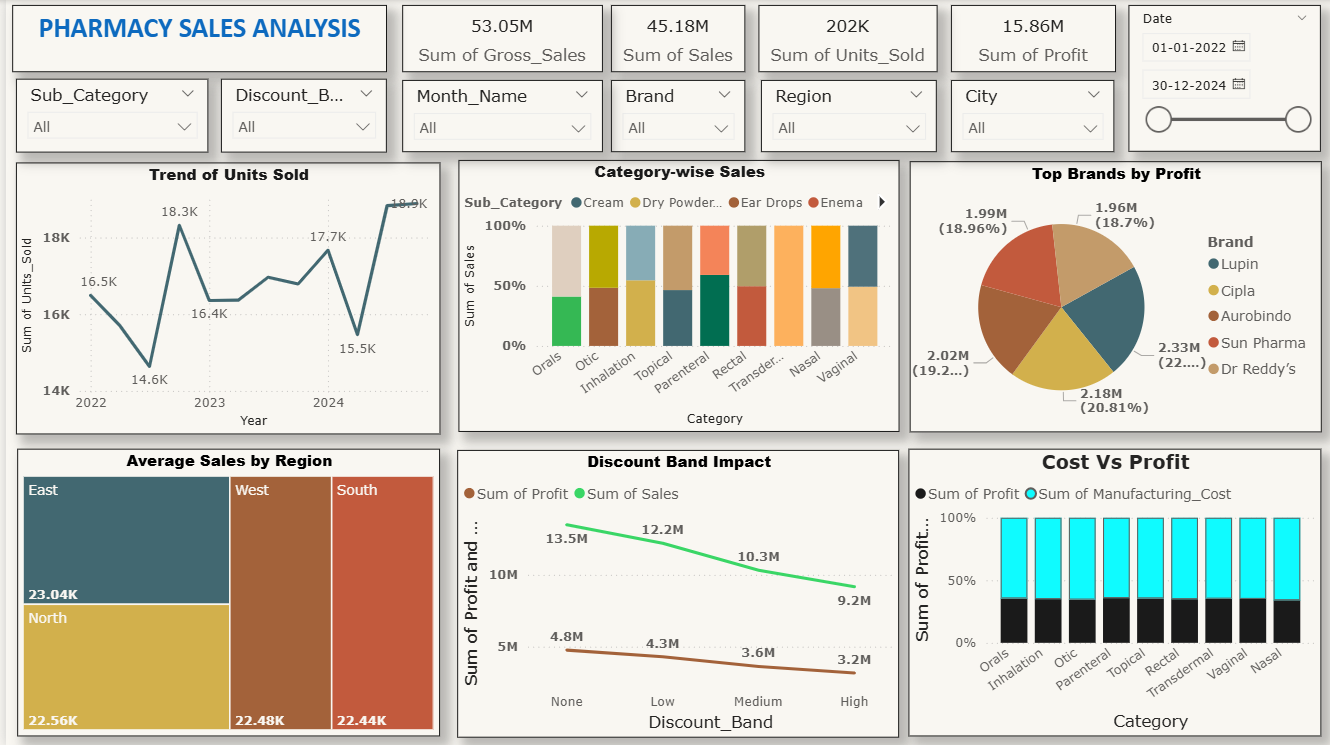

What the dashboard file says about the page in this screenshot:
{"tool":"powerbi","page":{"name":"Dashboard","canvas":[1280,720],"ordinal":0},"visuals":[{"type":"card","fields":{"Values":["Sum(Pharmacy_Sales.Sales)"]},"box":[584.5,4.9,129.6,64.8],"z":0},{"type":"card","fields":{"Values":["Sum(Pharmacy_Sales.Profit)"]},"box":[912.2,4.9,159,64.8],"z":1000},{"type":"card","fields":{"Values":["Sum(Pharmacy_Sales.Gross_Sales)"]},"box":[382.7,4.9,193.2,64.8],"z":2000},{"type":"card","fields":{"Values":["Sum(Pharmacy_Sales.Units_Sold)"]},"box":[726.4,4.9,172.4,64.8],"z":3000},{"type":"textbox","box":[6.1,4.9,362,64.8],"z":4000},{"type":"lineChart","title":"Trend of Units Sold","fields":{"Y":["Sum(Pharmacy_Sales.Units_Sold)"],"Category":["Pharmacy_Sales.Date.Variation.Date Hierarchy.Year","Pharmacy_Sales.Date.Variation.Date Hierarchy.Quarter","Pharmacy_Sales.Date.Variation.Date Hierarchy.Month","Pharmacy_Sales.Date.Variation.Date Hierarchy.Day"]},"box":[9.8,157.1,409.5,262.2],"z":5000},{"type":"treemap","title":"Average Sales by Region","fields":{"Group":["Pharmacy_Sales.Region"],"Values":["Avg(Pharmacy_Sales.Sales)"]},"box":[11.2,433.3,408.1,277.7],"z":6000},{"type":"hundredPercentStackedColumnChart","title":"Category-wise Sales","fields":{"Category":["Pharmacy_Sales.Category"],"Series":["Pharmacy_Sales.Sub_Category"],"Y":["Sum(Pharmacy_Sales.Sales)"]},"box":[436.3,155,425.6,262.2],"z":7000},{"type":"lineChart","title":"Discount Band Impact","fields":{"Category":["Pharmacy_Sales.Discount_Band"],"Y":["Sum(Pharmacy_Sales.Profit)","Sum(Pharmacy_Sales.Sales)"]},"box":[435.1,433.9,426.7,277.7],"z":8000},{"type":"pieChart","title":"Top Brands by Profit","fields":{"Category":["Pharmacy_Sales.Brand"],"Y":["Sum(Pharmacy_Sales.Profit)"]},"box":[871.9,155.3,397.4,261.7],"z":9000},{"type":"hundredPercentStackedColumnChart","title":"Cost Vs Profit","fields":{"Y":["Sum(Pharmacy_Sales.Profit)","Sum(Pharmacy_Sales.Manufacturing_Cost)"],"Category":["Pharmacy_Sales.Category"]},"box":[870.8,433.3,398.2,277.7],"z":10000},{"type":"slicer","title":"Sub Category","fields":{"Values":["Pharmacy_Sales.Sub_Category"]},"box":[9.8,75.8,185.9,70.9],"z":11000},{"type":"slicer","title":"City","fields":{"Values":["Pharmacy_Sales.City"]},"box":[912.2,77,157.7,69.7],"z":12000},{"type":"slicer","fields":{"Values":["Pharmacy_Sales.Brand"]},"box":[584.5,77,129.6,69.7],"z":13000},{"type":"slicer","title":"Month","fields":{"Values":["Pharmacy_Sales.Month_Name"]},"box":[382.7,77,193.2,69.7],"z":14000},{"type":"slicer","fields":{"Values":["Pharmacy_Sales.Discount_Band"]},"box":[207.9,75.8,160.2,70.9],"z":15000},{"type":"slicer","fields":{"Values":["Pharmacy_Sales.Date"]},"box":[1083.4,4.9,185.9,141.8],"z":16000},{"type":"slicer","fields":{"Values":["Pharmacy_Sales.Region"]},"box":[728.8,77,170,69.7],"z":17000}]}

Visuals, with their boxes in screenshot pixels (x1, y1, x2, y2), scaled from the page's 1280x720 canvas onto the 1330x745 screenshot:
card - Sum(Pharmacy_Sales.Sales): <bbox>607, 5, 742, 72</bbox>
card - Sum(Pharmacy_Sales.Profit): <bbox>948, 5, 1113, 72</bbox>
card - Sum(Pharmacy_Sales.Gross_Sales): <bbox>398, 5, 598, 72</bbox>
card - Sum(Pharmacy_Sales.Units_Sold): <bbox>755, 5, 934, 72</bbox>
textbox: <bbox>6, 5, 382, 72</bbox>
"Trend of Units Sold" lineChart: <bbox>10, 163, 436, 434</bbox>
"Average Sales by Region" treemap: <bbox>12, 448, 436, 736</bbox>
"Category-wise Sales" hundredPercentStackedColumnChart: <bbox>453, 160, 896, 432</bbox>
"Discount Band Impact" lineChart: <bbox>452, 449, 895, 736</bbox>
"Top Brands by Profit" pieChart: <bbox>906, 161, 1319, 431</bbox>
"Cost Vs Profit" hundredPercentStackedColumnChart: <bbox>905, 448, 1319, 736</bbox>
"Sub Category" slicer: <bbox>10, 78, 203, 152</bbox>
"City" slicer: <bbox>948, 80, 1112, 152</bbox>
slicer - Pharmacy_Sales.Brand: <bbox>607, 80, 742, 152</bbox>
"Month" slicer: <bbox>398, 80, 598, 152</bbox>
slicer - Pharmacy_Sales.Discount_Band: <bbox>216, 78, 382, 152</bbox>
slicer - Pharmacy_Sales.Date: <bbox>1126, 5, 1319, 152</bbox>
slicer - Pharmacy_Sales.Region: <bbox>757, 80, 934, 152</bbox>
